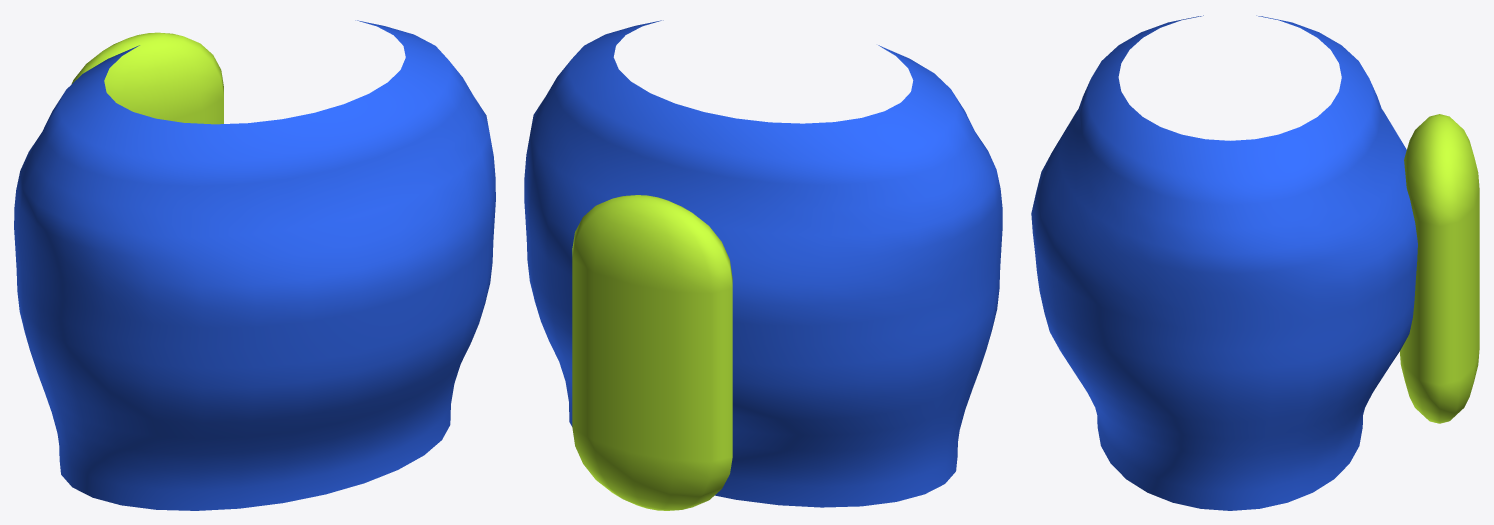
The model's file is accessory_vest_female.glb.
3 views of the same model, side by side, from view 1: azimuth 30°, elevation 25°; view 2: azimuth 150°, elevation 25°; view 3: azimuth 270°, elevation 25° (orthographic). The views are drawn at different scales.
Visible parts, largest first — view 1: vest, bottle_pack; view 2: vest, bottle_pack; view 3: vest, bottle_pack.
Part boxes in pixels (left/top/right/bottom): vest: left=14, top=20, right=495, bottom=510; bottle_pack: left=71, top=32, right=223, bottom=124; vest: left=524, top=20, right=1002, bottom=507; bottle_pack: left=572, top=195, right=732, bottom=510; vest: left=1031, top=15, right=1417, bottom=510; bottle_pack: left=1399, top=114, right=1479, bottom=423.
Size of the model in its own units: 0.3238 by 0.265 by 0.3076.
